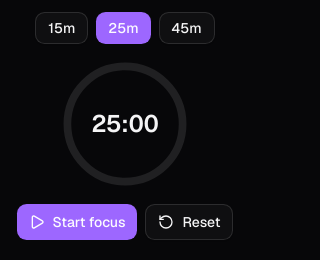
FocusTimer › resets back to the selected duration
What coordinates should you click on to do the following:
click the button "15m"
I would click on:
 (62, 28)
Its box is 35,12 -> 88,44.
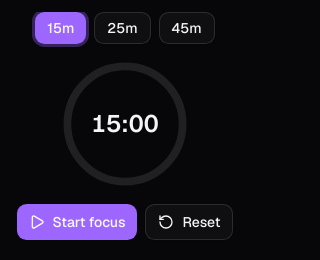
What coordinates should you click on to do the following:
click the button "Start focus"
I would click on:
 (77, 222)
Its box is 16,204 -> 138,240.
Wait 3000 ms
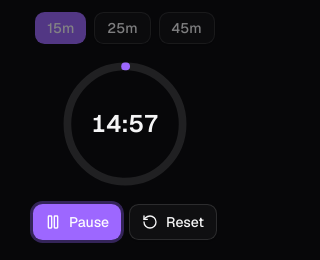
What coordinates should you click on to do the following:
click the button "Reset"
I would click on:
 (173, 222)
Its box is 129,204 -> 217,240.
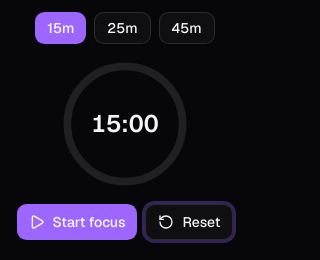
Now the text "15:00" is shown, box 91,108 -> 159,140
Now the button "Start focus" is shown, box 16,204 -> 138,240
